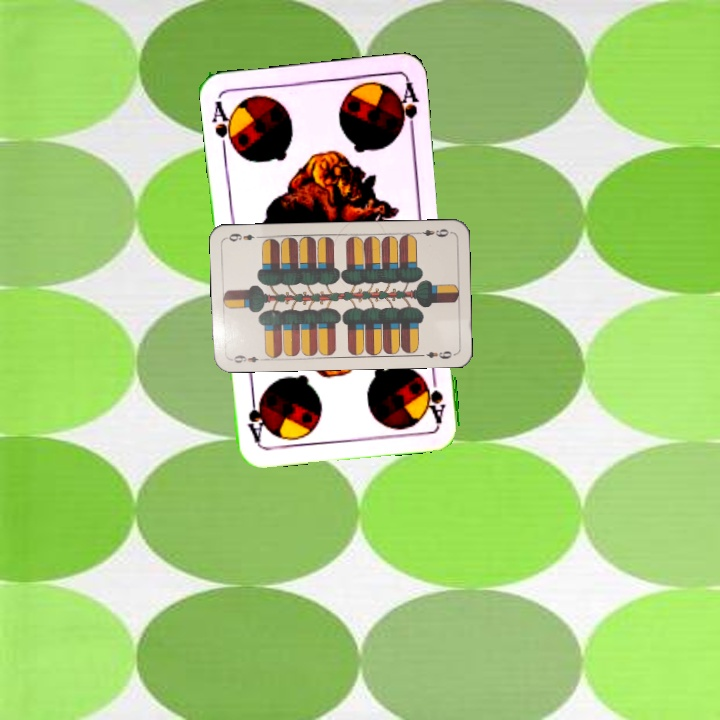E9: (227, 351, 267, 366), (413, 225, 453, 239)
SA: (208, 96, 239, 154), (420, 366, 448, 425)
